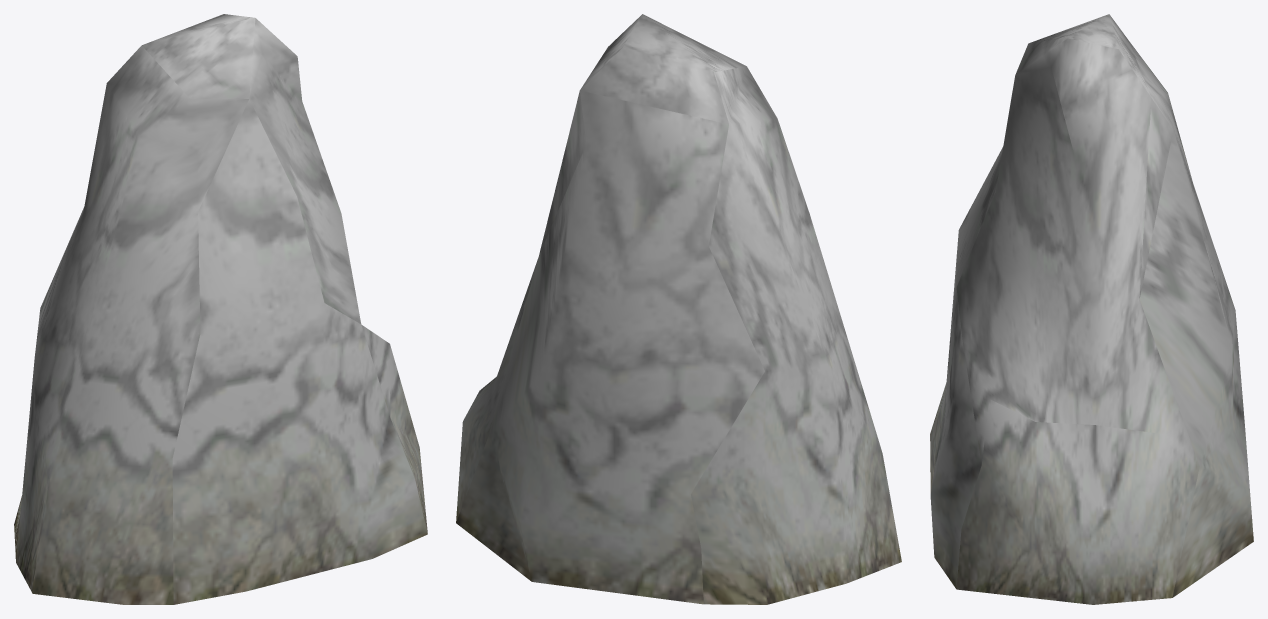
Rendered from general_obj_bigstone09_lod_01.fbx.
3 views of the same model, side by side, from view 1: azimuth 30°, elevation 25°; view 2: azimuth 150°, elevation 25°; view 3: azimuth 270°, elevation 25° (orthographic).
Parts seen in each view (by area): view 1: Sphere01fs01; view 2: Sphere01fs01; view 3: Sphere01fs01.
Part boxes in pixels (x1,y1,x2,y2): Sphere01fs01: (14,14,427,604); Sphere01fs01: (456,14,901,604); Sphere01fs01: (930,14,1253,604).
Bounding box in the file's own units: 15.54 × 19.25 × 11.38.
